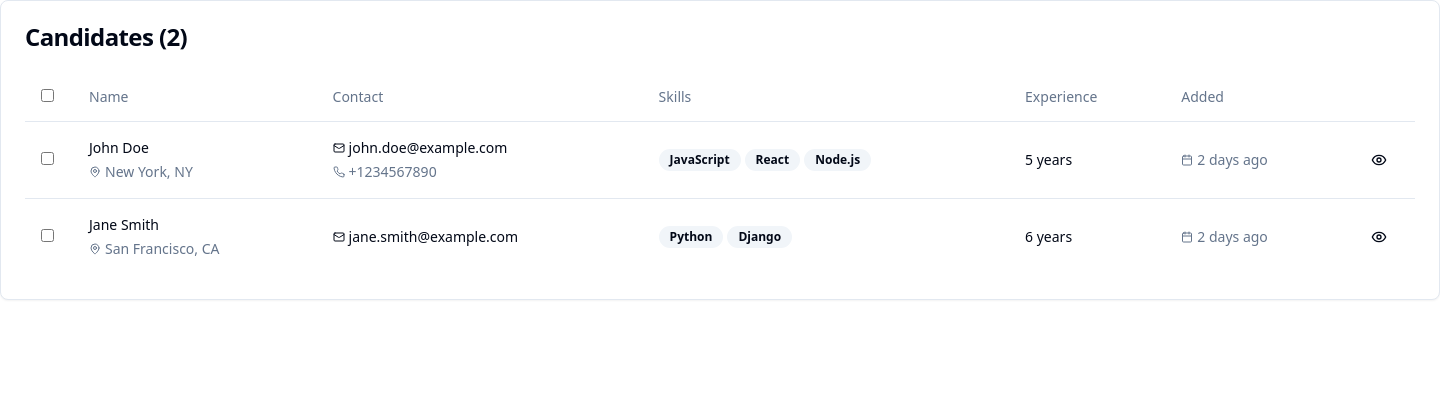
Test: CandidateList › handles select all functionality
Step 1. Click the checkbox next to "Name" → [48, 95], box [41,89,54,102]
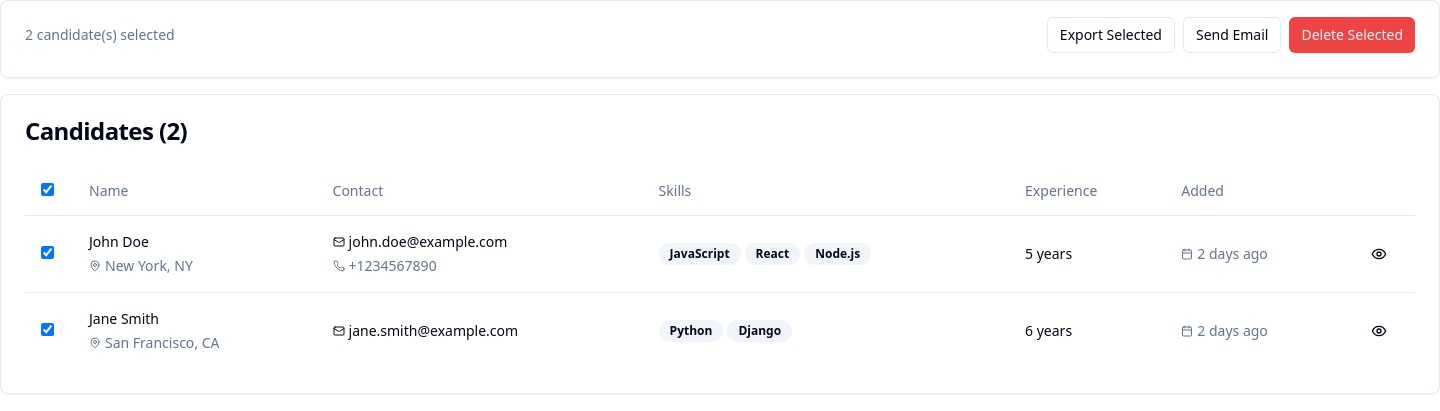
Expected: the text "2 candidate(s) selected" is shown, [25,25,175,45]
